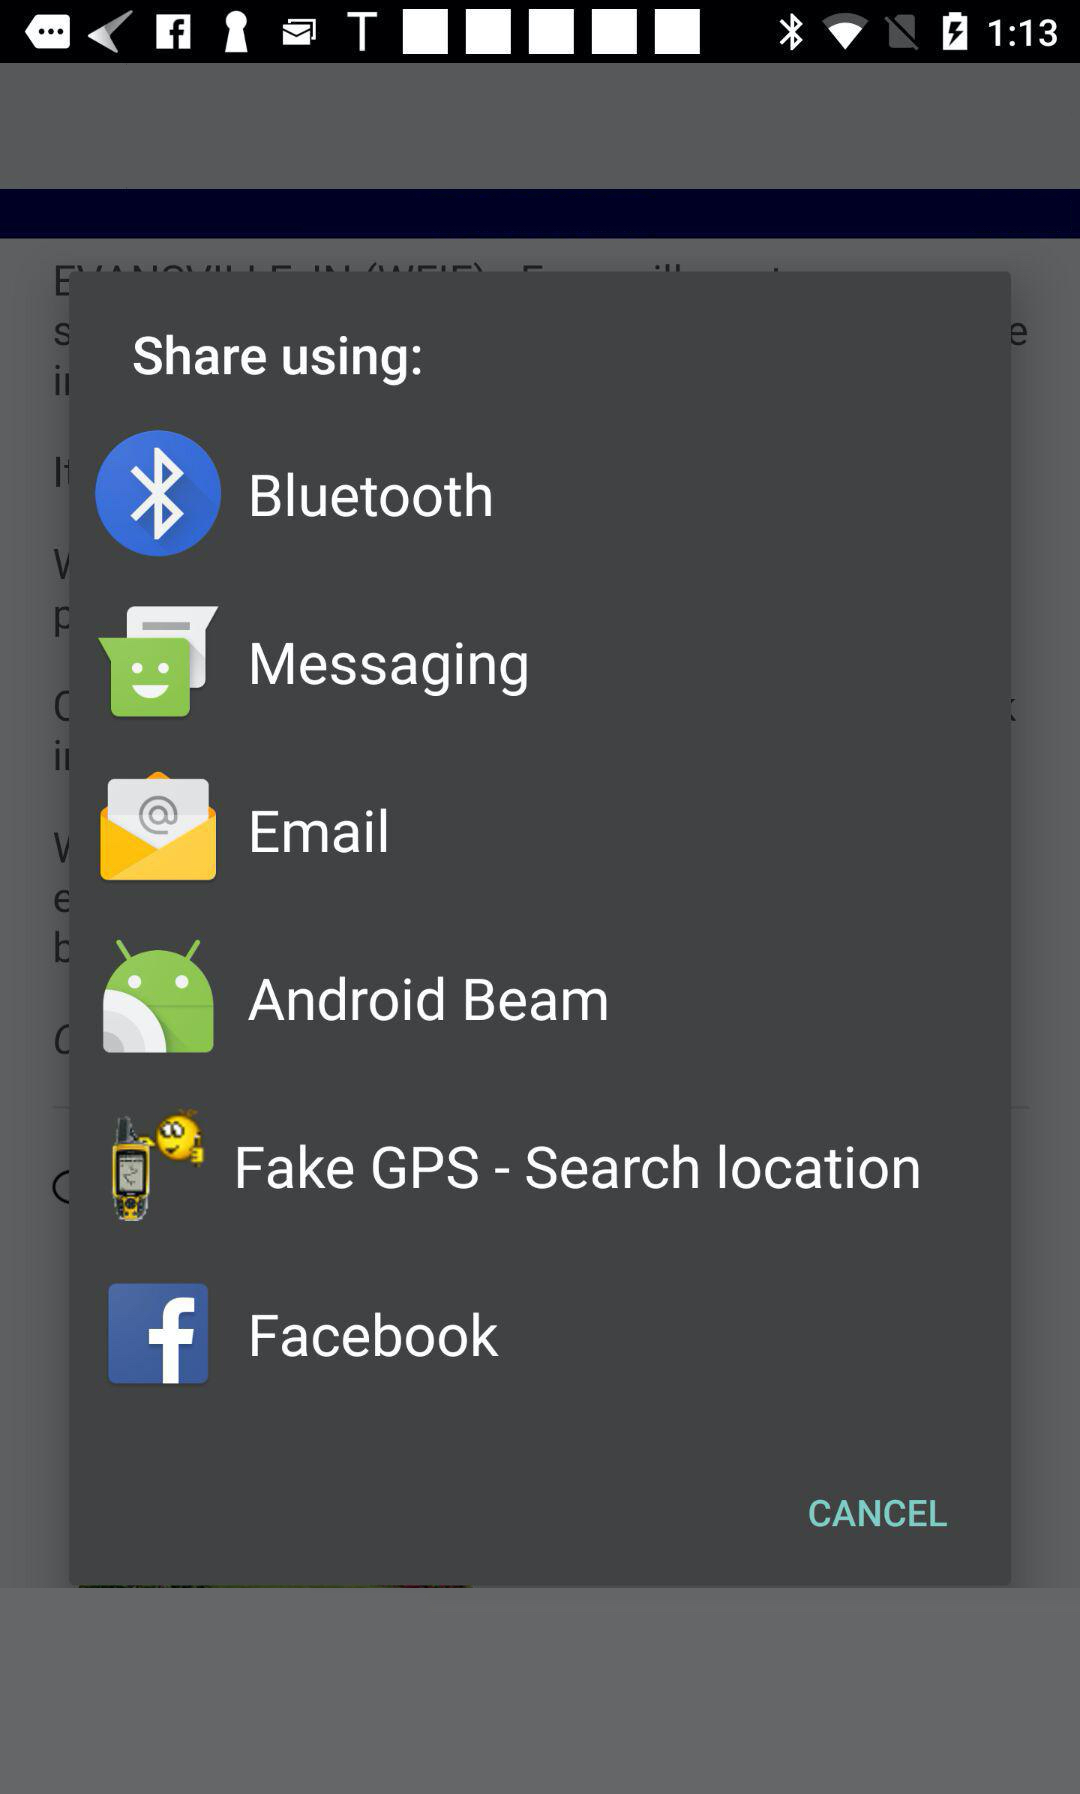Icon: (95, 431, 224, 559), (108, 1281, 210, 1387)
Image: (97, 605, 222, 719), (102, 937, 217, 1055), (99, 770, 218, 883), (111, 1106, 208, 1224)
Modal: (70, 272, 1013, 1586)
Text: (237, 1143, 921, 1193), (247, 975, 609, 1024), (251, 641, 530, 700), (133, 334, 423, 388), (251, 472, 495, 522), (251, 1311, 500, 1360), (251, 806, 389, 856), (808, 1498, 951, 1529)
UpperTaskBar: (1, 1, 1080, 64)
